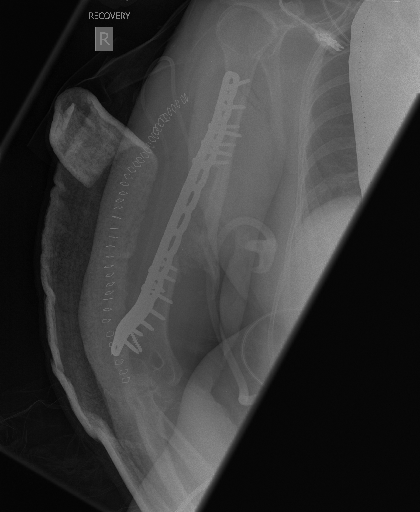implant: (112, 69, 253, 358)
